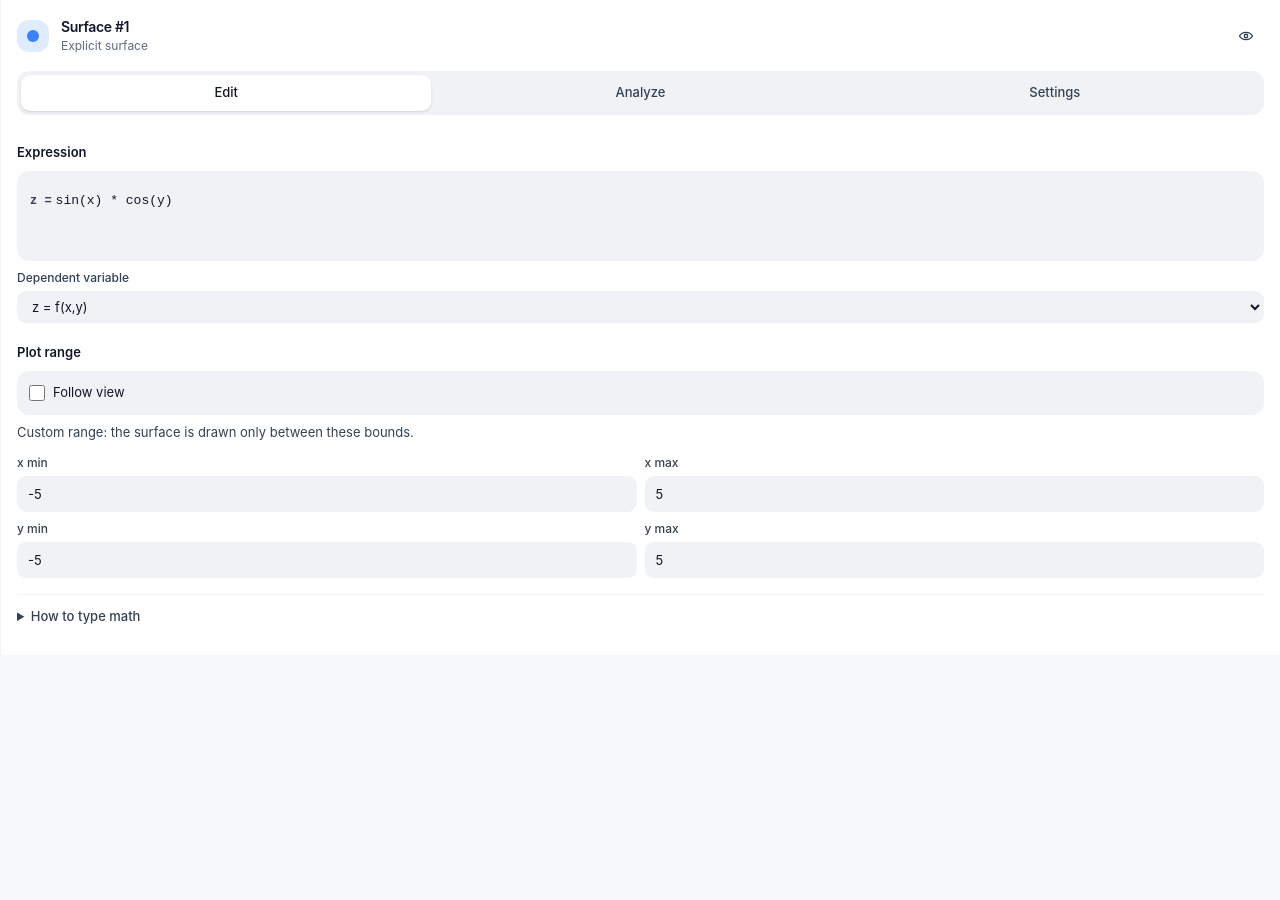
Test: Inspector essential and secondary controls › shows geometric operations when another equation object is available
Click the tab "Settings" at (1055, 93), box left=850, top=75, right=1260, bottom=111
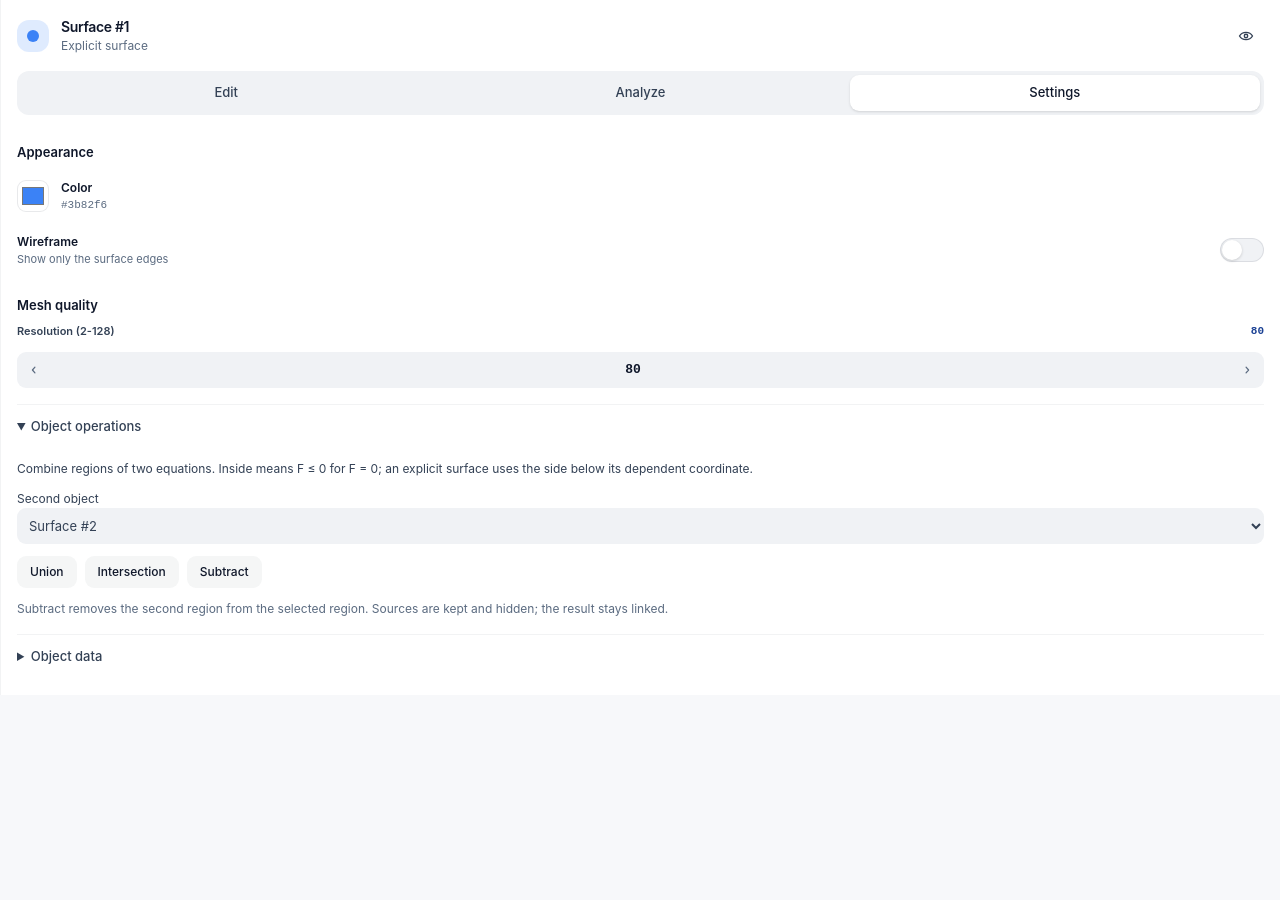
expect the dropdown named "Second object for operation" is enabled: met, box left=17, top=508, right=1264, bottom=544
